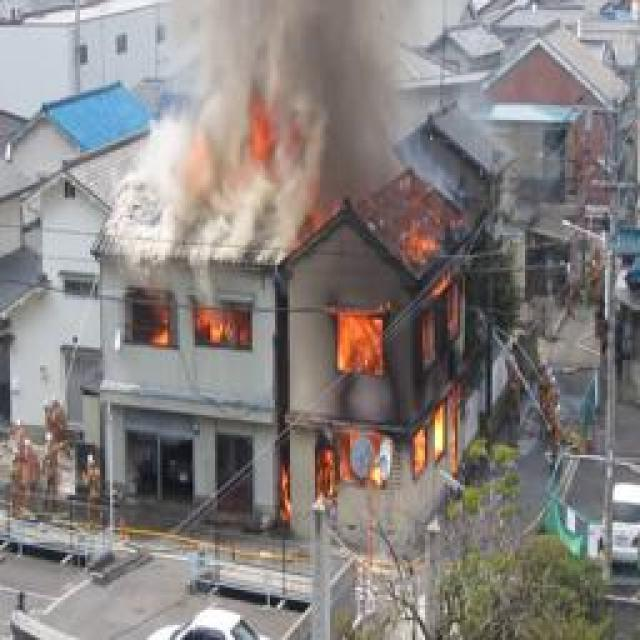Fire: (300, 184, 487, 508), (180, 94, 276, 200), (128, 297, 250, 353)
